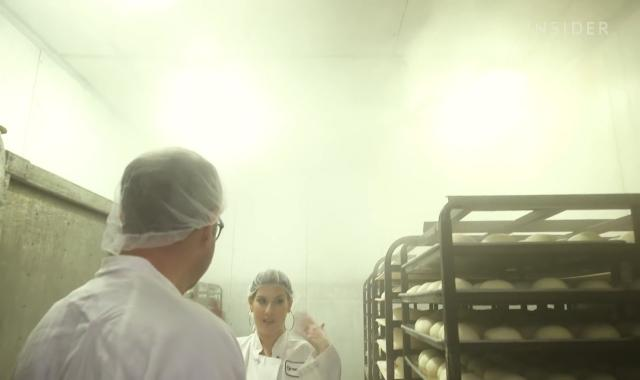hairnet: (103, 148, 225, 254), (244, 268, 300, 301)
